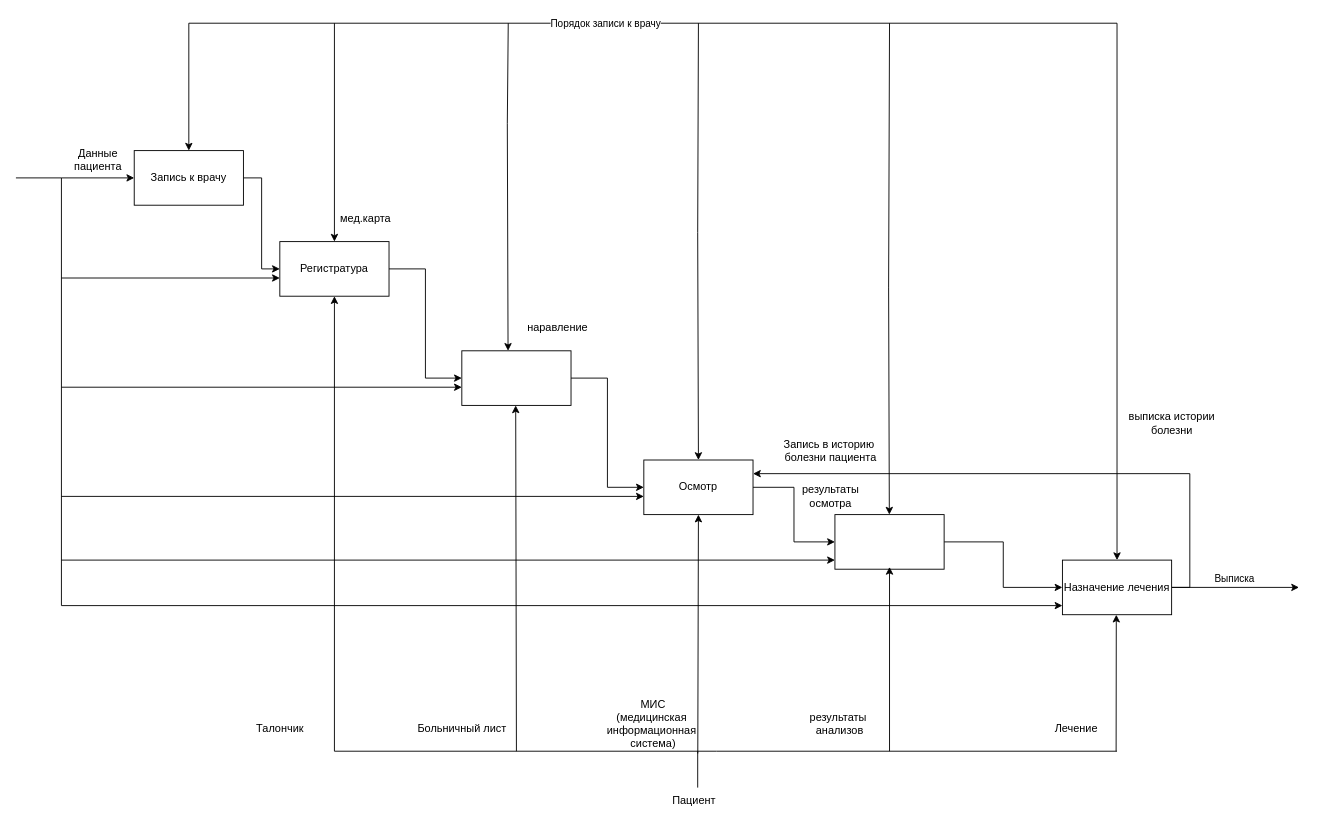
Image size: 1322x831. Some labels were removed from this diagram. The centre of each missing label's shape, as x and y in pixels:
"Врач" goes at pixel 516 377.
"Направление на сдачу анализов" goes at pixel 889 541.
